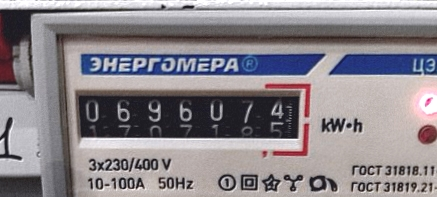0: (81, 97, 100, 122), (208, 96, 224, 122)
4: (269, 95, 285, 120)
5: (269, 119, 284, 138)
6: (114, 95, 133, 123), (176, 97, 193, 121)
7: (237, 97, 255, 123)
9: (144, 97, 163, 122)
screen: (62, 75, 315, 159)
